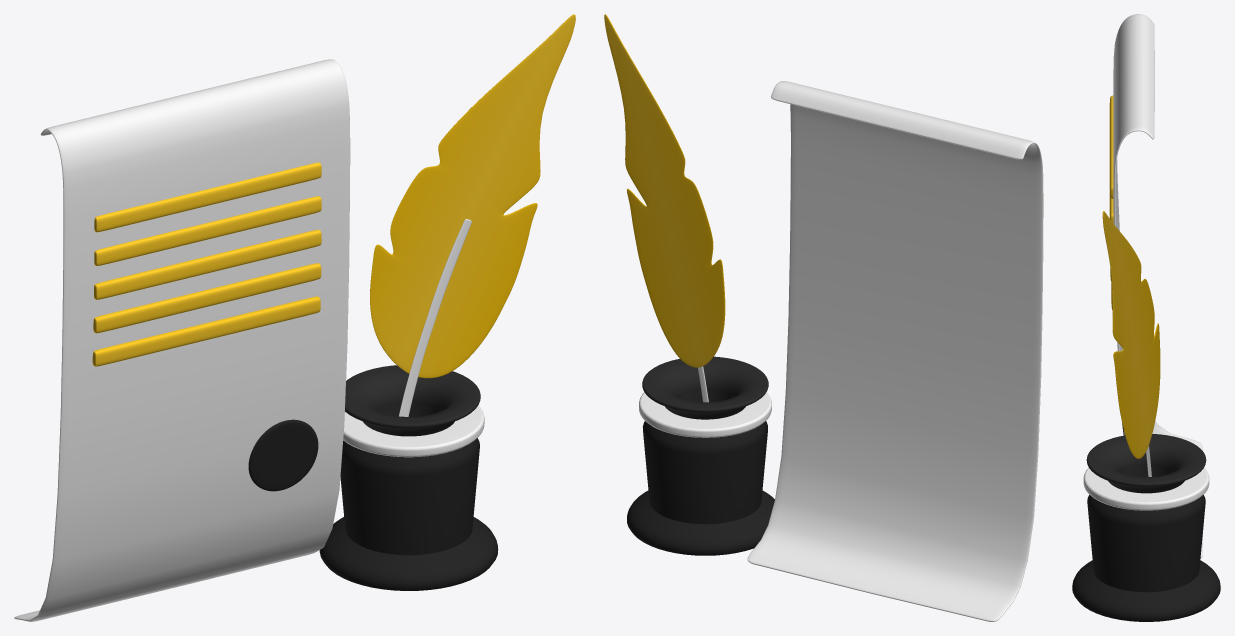
File: publication.obj
3 renders of one model, left to right at view 1: azimuth 30°, elevation 25°; view 2: azimuth 150°, elevation 25°; view 3: azimuth 270°, elevation 25°, orthographic. The views are drawn at different scales.
Parts seen in each view (by area): view 1: Pero2_IconTex; view 2: Pero2_IconTex; view 3: Pero2_IconTex.
Part boxes in pixels (x1=…): Pero2_IconTex: x1=14, y1=14, x2=575, y2=621; Pero2_IconTex: x1=604, y1=14, x2=1043, y2=621; Pero2_IconTex: x1=1072, y1=14, x2=1220, y2=621.
Bounding box in the file's own units: 0.8629 × 0.86 × 0.2643.
